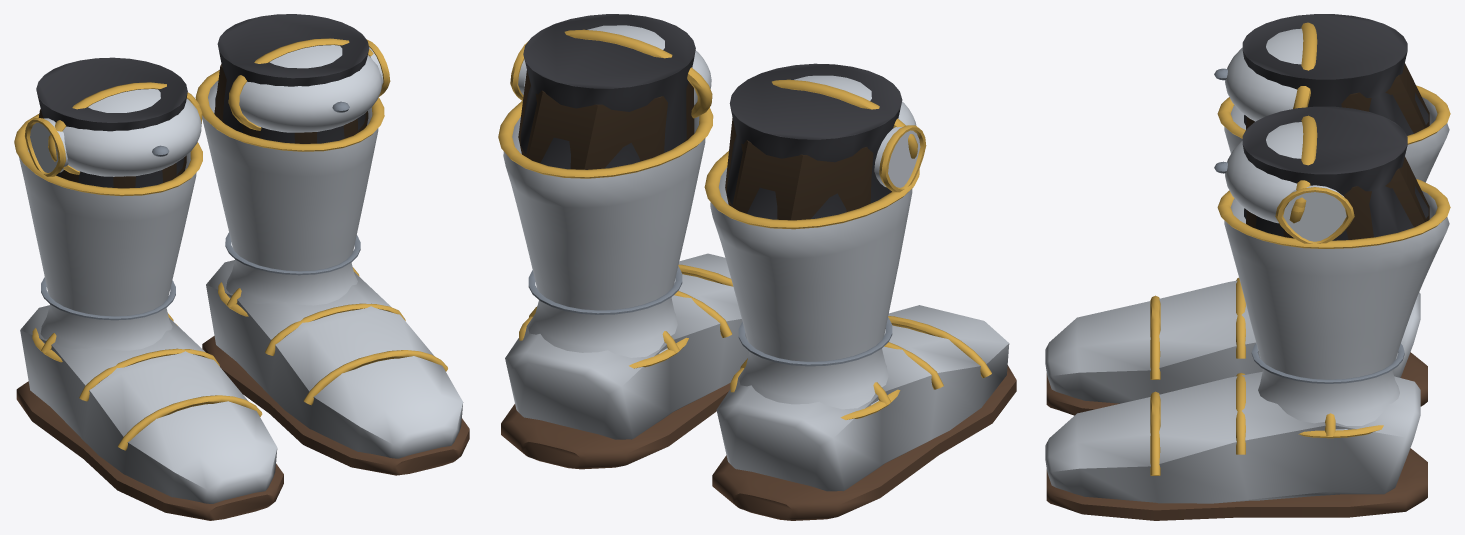
Rendered from f_royalplate_d.glb.
3 renders of one model, left to right at view 1: azimuth 30°, elevation 25°; view 2: azimuth 150°, elevation 25°; view 3: azimuth 270°, elevation 25°, orthographic. The views are drawn at different scales.
Parts seen in each view (by area): view 1: LegR_Boot, LegL_Boot, LegR_BootFoot, LegL_BootFoot, LegL_Shin, LegR_Shin; view 2: LegR_Boot, LegL_Boot, LegR_BootFoot, LegL_BootFoot, LegL_Shin, LegR_Shin; view 3: LegL_Boot, LegL_BootFoot, LegR_BootFoot, LegR_Boot, LegL_Shin, LegR_Shin.
Part boxes in pixels (box(x1,y1,x2,y2)): LegR_Boot: box(14, 57, 202, 362); LegL_Boot: box(195, 14, 390, 316); LegR_BootFoot: box(16, 305, 283, 520); LegL_BootFoot: box(202, 260, 469, 475); LegL_Shin: box(214, 64, 368, 143); LegR_Shin: box(38, 109, 186, 188); LegR_Boot: box(704, 63, 926, 419); LegL_Boot: box(498, 14, 713, 368); LegR_BootFoot: box(712, 305, 1016, 520); LegL_BootFoot: box(501, 253, 749, 469); LegL_Shin: box(518, 70, 694, 169); LegR_Shin: box(725, 118, 891, 220); LegL_Boot: box(1214, 106, 1450, 438); LegL_BootFoot: box(1045, 372, 1427, 520); LegR_BootFoot: box(1045, 277, 1427, 415); LegR_Boot: box(1214, 14, 1450, 182); LegL_Shin: box(1246, 157, 1429, 239); LegR_Shin: box(1246, 63, 1429, 133).
Bounding box in the file's own units: 0.3997 × 0.3862 × 0.3935.
